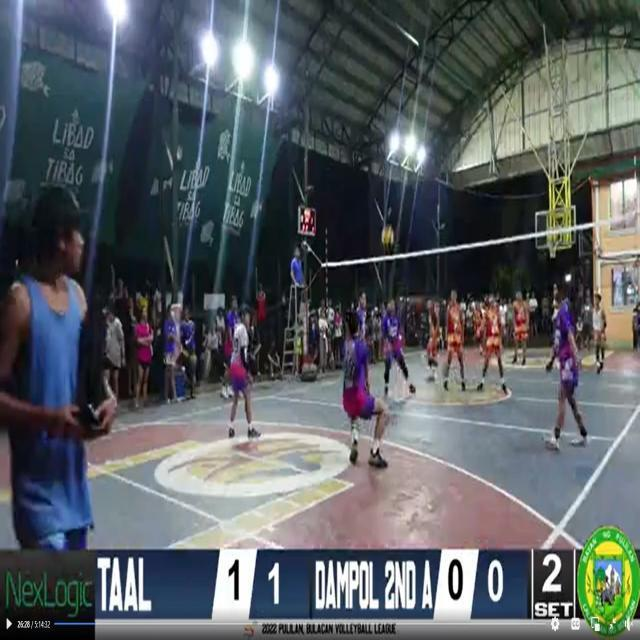volleyball: (382, 226, 394, 250)
